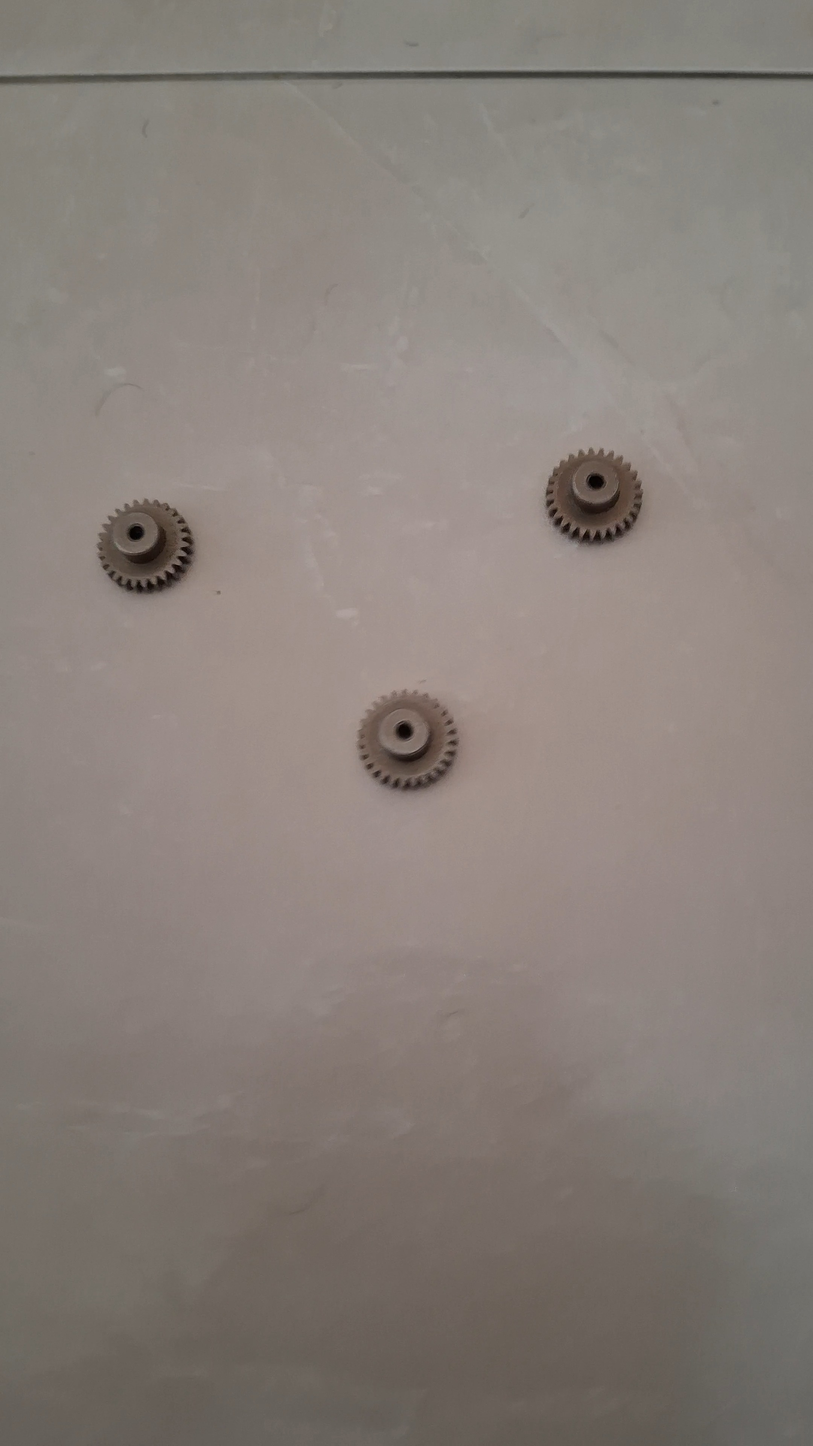spur gear: (358, 691, 458, 789), (545, 449, 642, 541), (98, 501, 193, 590)
